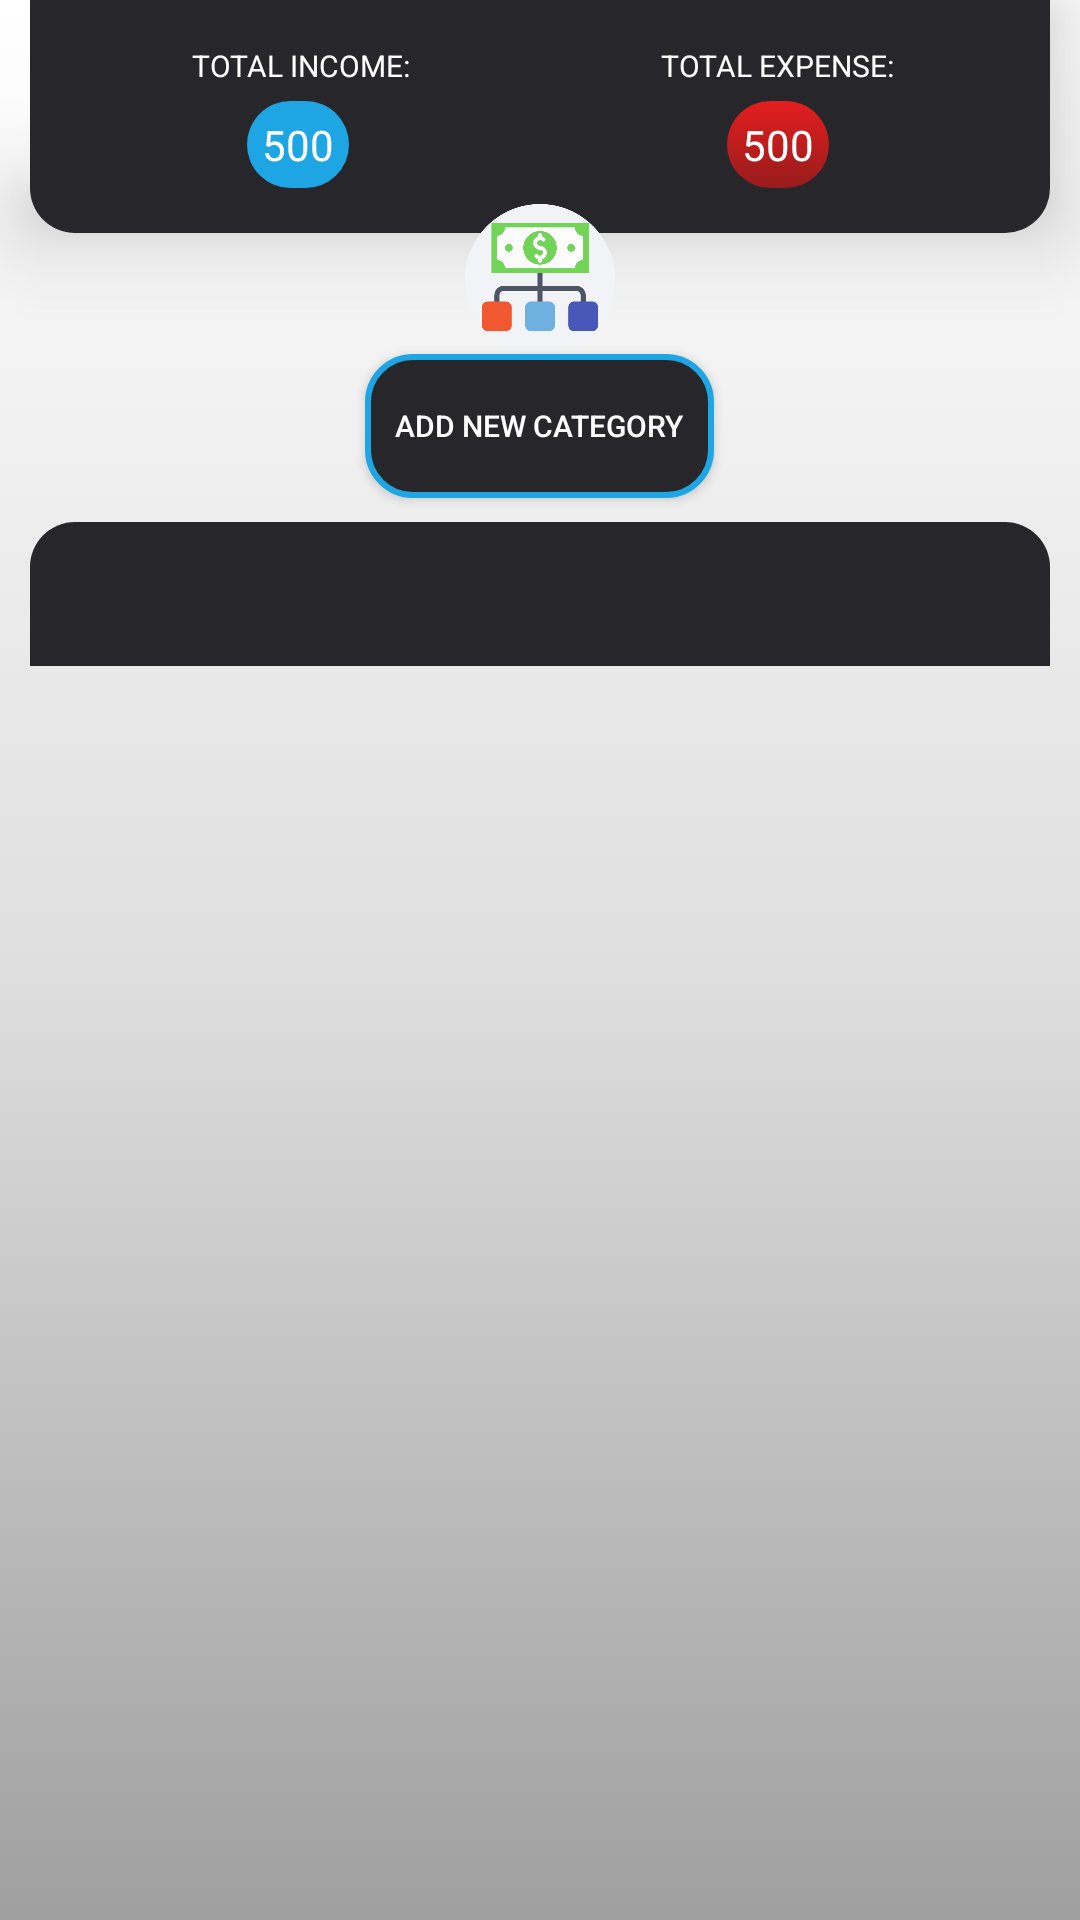

Point at icon controls on the screen. Image size 1080x1920, points as (x,y).
categories: (540,279)
